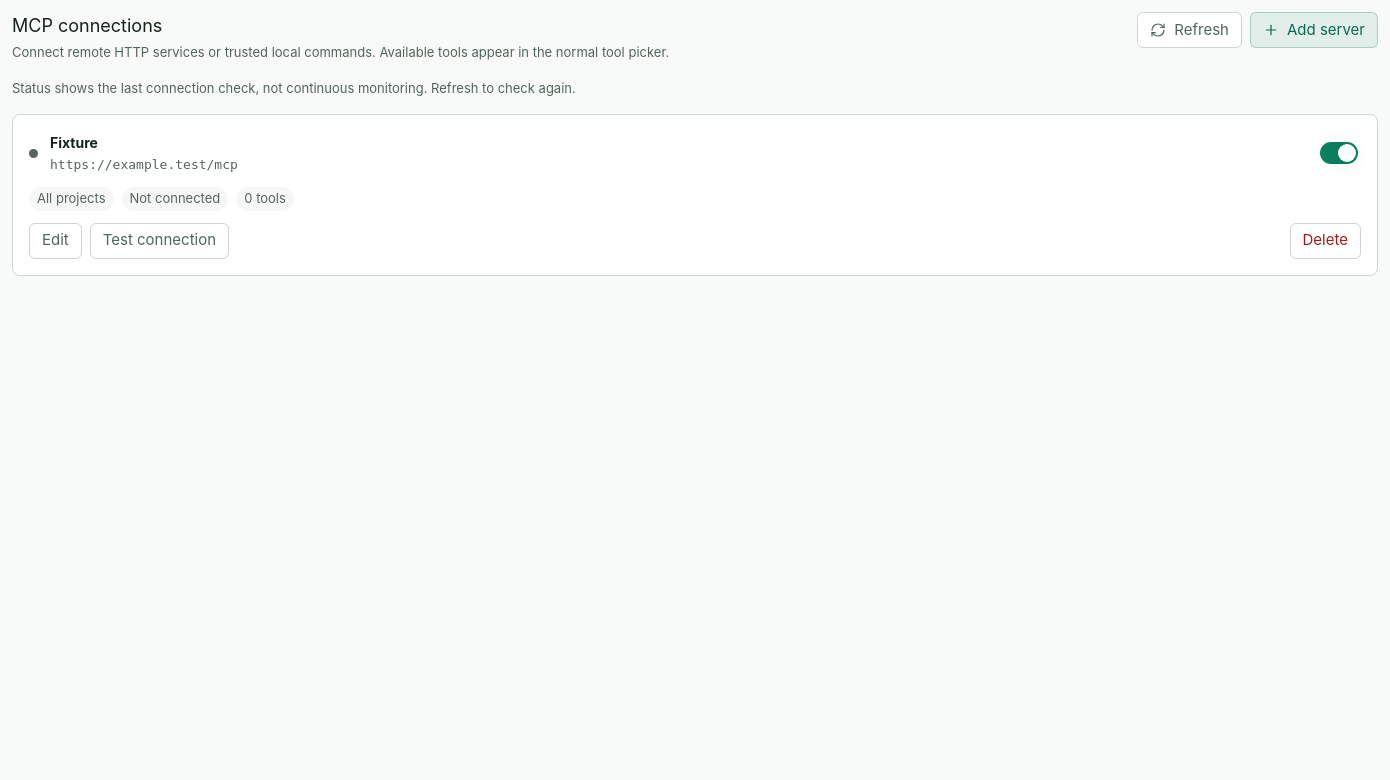
it: MCP draft conflict and save lifecycle › preserves server errors inline and disables all editor controls while saving
Click the button "Edit" at (55,240), box [29, 222, 82, 258]
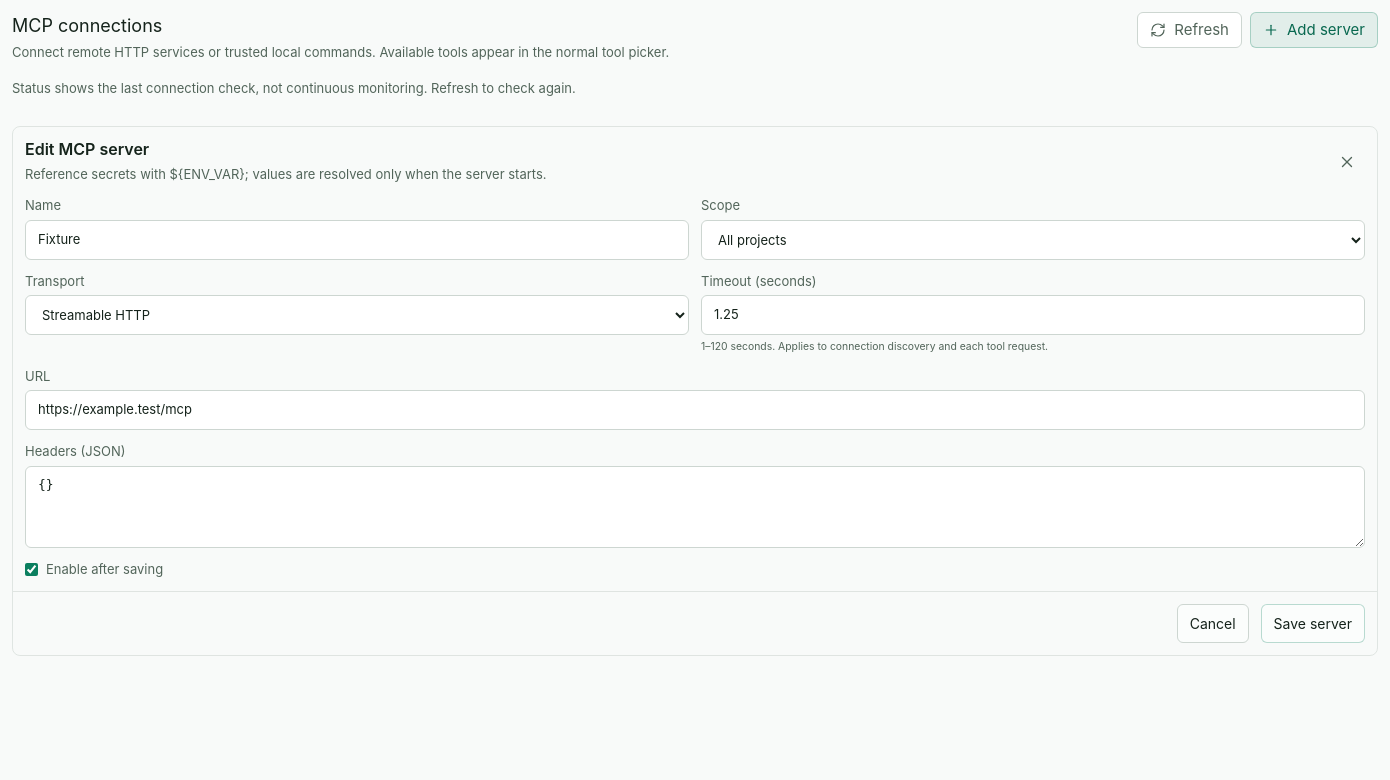
Click the button "Save server" at (1313,624), box [1261, 604, 1365, 643]
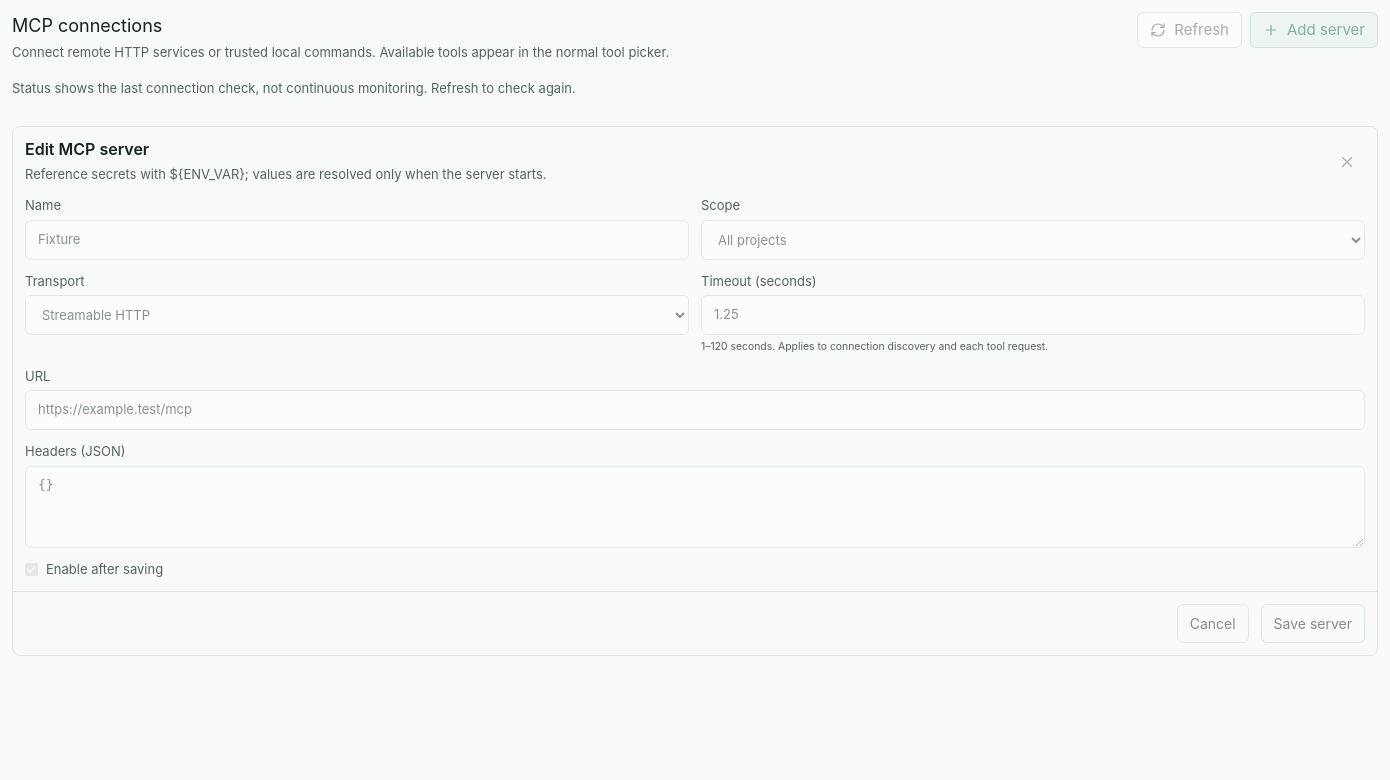
Click the button "Save server" at (1313,624), box [1261, 604, 1365, 643]
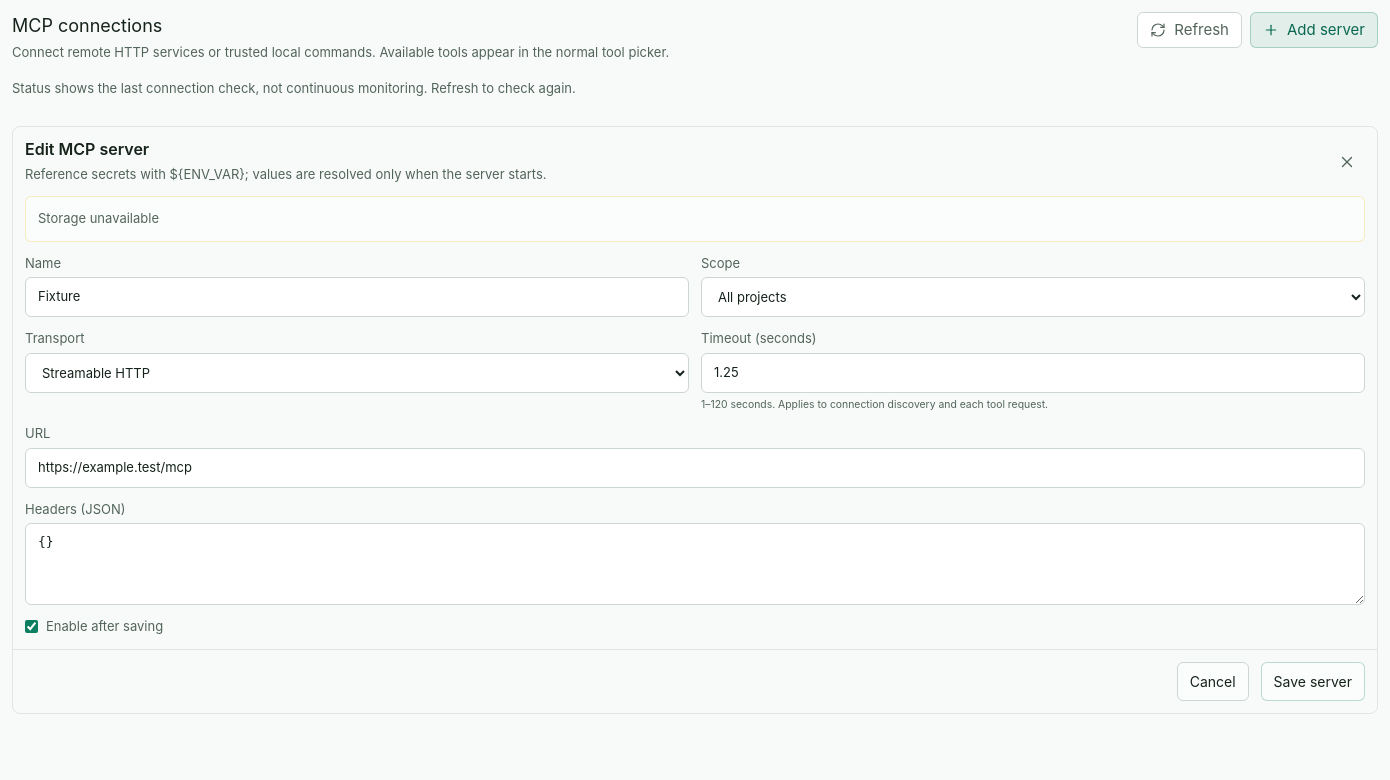
Result: the field labelled "Name" holds "Fixture" at [25, 277, 689, 317]
Result: the message "Storage unavailable" is shown at [38, 210, 159, 226]
